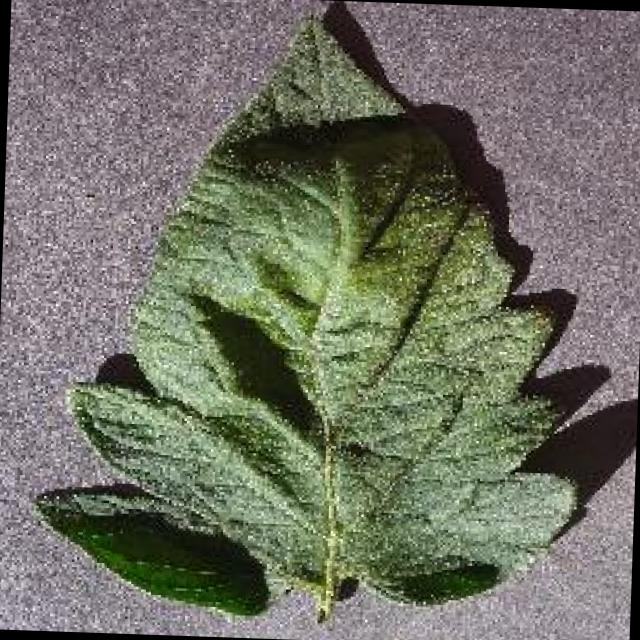Tomato_Healthy: (26, 9, 613, 624)
